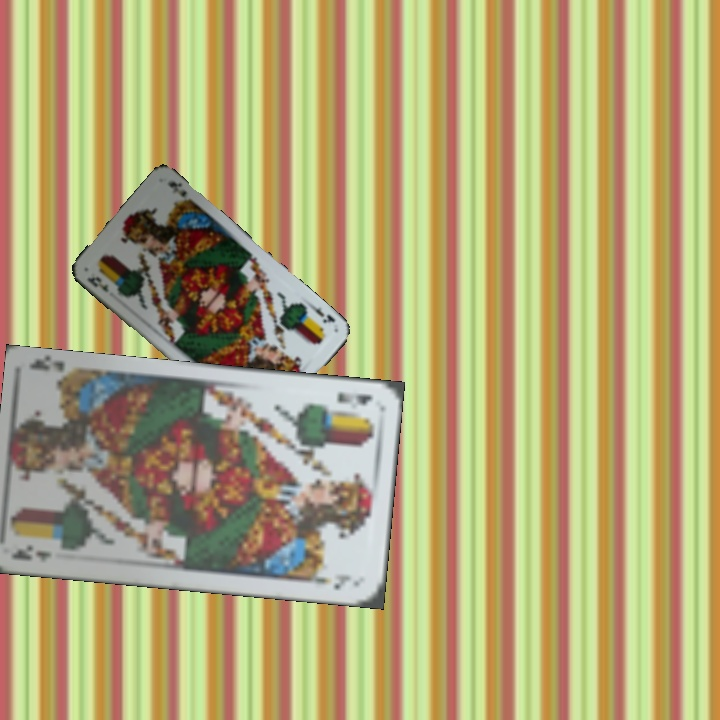EK: (11, 541, 55, 565), (306, 299, 338, 326), (332, 388, 374, 408), (83, 273, 111, 295)
